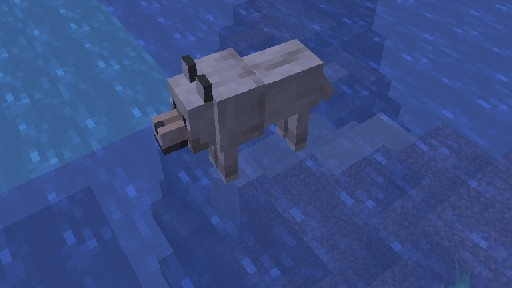wolf: (150, 38, 335, 184)
